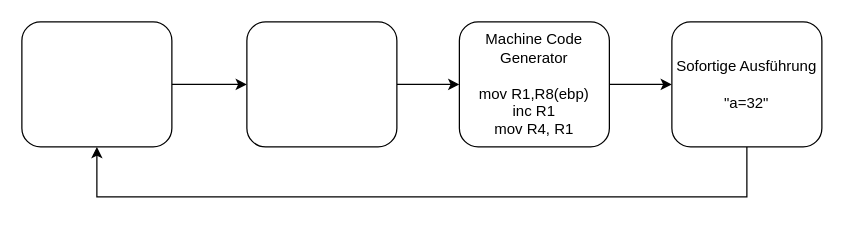
Some shapes in this 844 by 229 pixel diagram are drawn without their labels. Each missing label, with the centre of its shape:
Source Code a=50; if (a<25){...}: (96,84)
Syntax / Semantik Analyse: (321,84)
